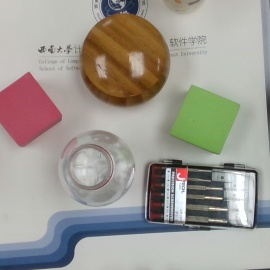bottle: (58, 129, 136, 207)
chess: (80, 11, 169, 108)
